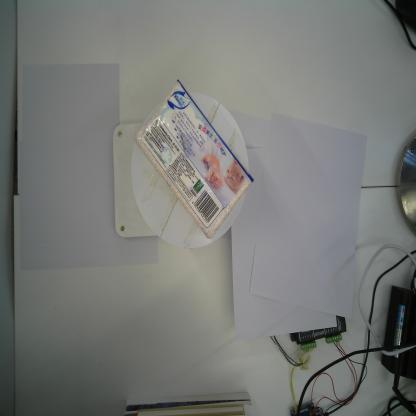Tissue: (134, 78, 254, 240)
